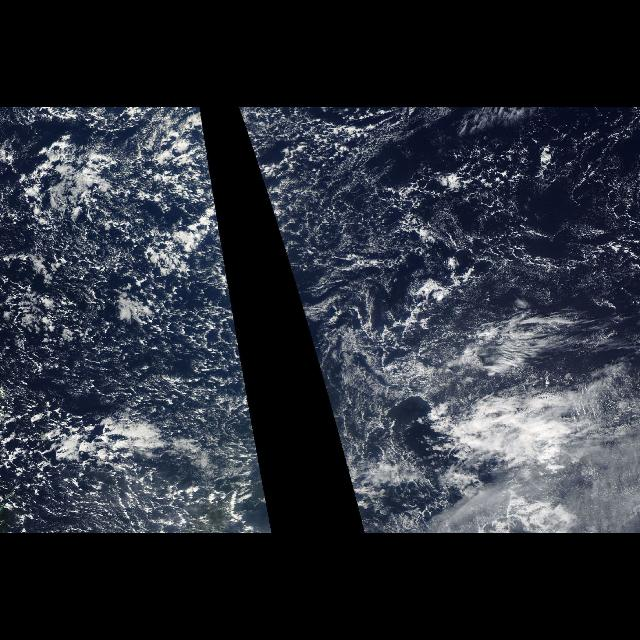Sugar: (250, 107, 636, 405), (0, 258, 244, 426)
